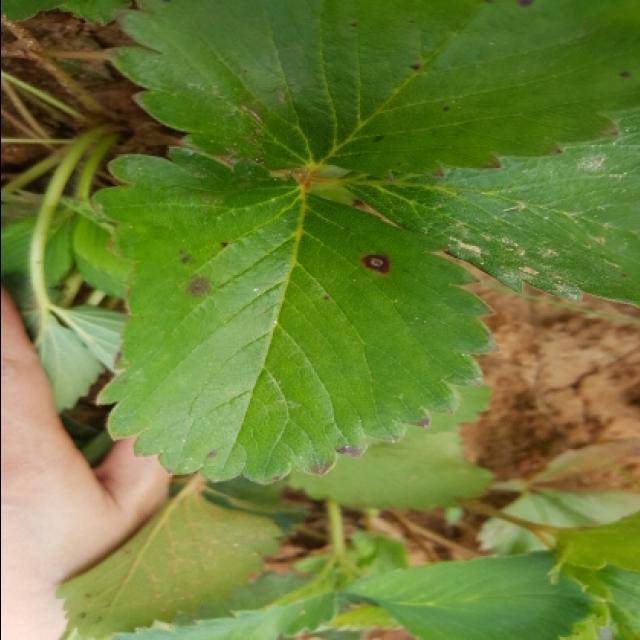Leaf Spot: (88, 144, 496, 486), (100, 2, 640, 184)
